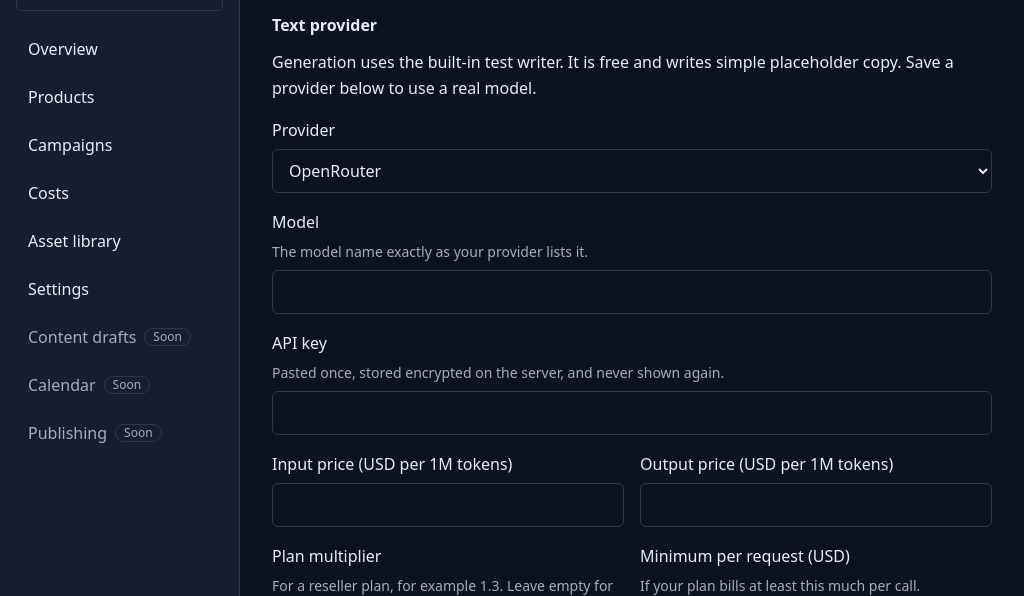
Test: Settings: text provider › shows the address field only for a custom provider and checks it
The image size is (1024, 596).
expect the field labelled "Model" is shown: met, box [272,270,992,314]
expect the field labelled "Address" is not shown: met
Select "Custom (OpenAI-compatible address)" in the dropdown labelled "Provider" at (632, 171), box [272,149,992,193]
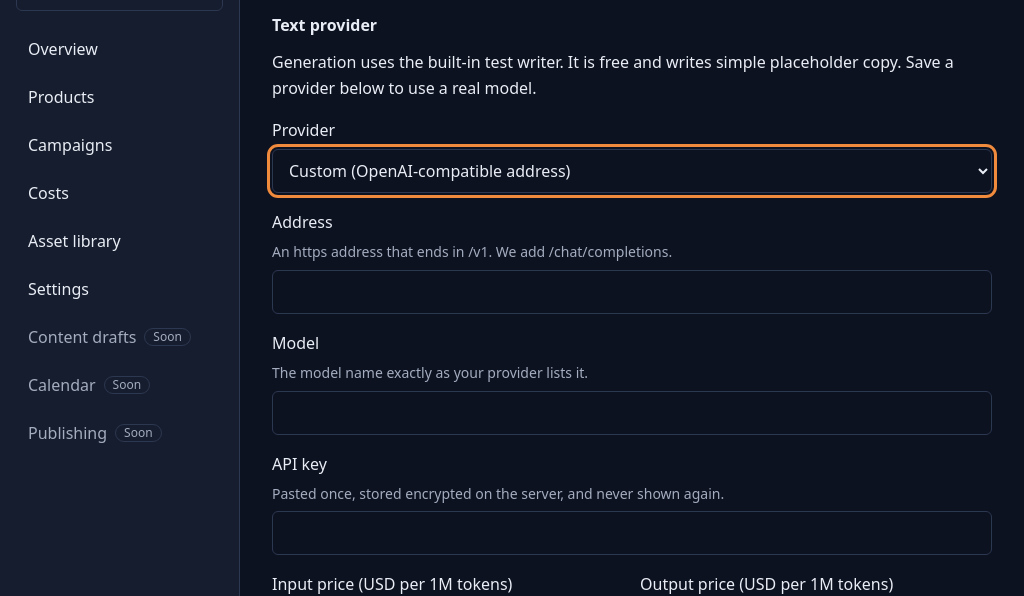
Type "http://192.168.1.5/v1" into the field labelled "Address".
click(632, 292); type("http://192.168.1.5/v1")  # box [272,270,992,314]
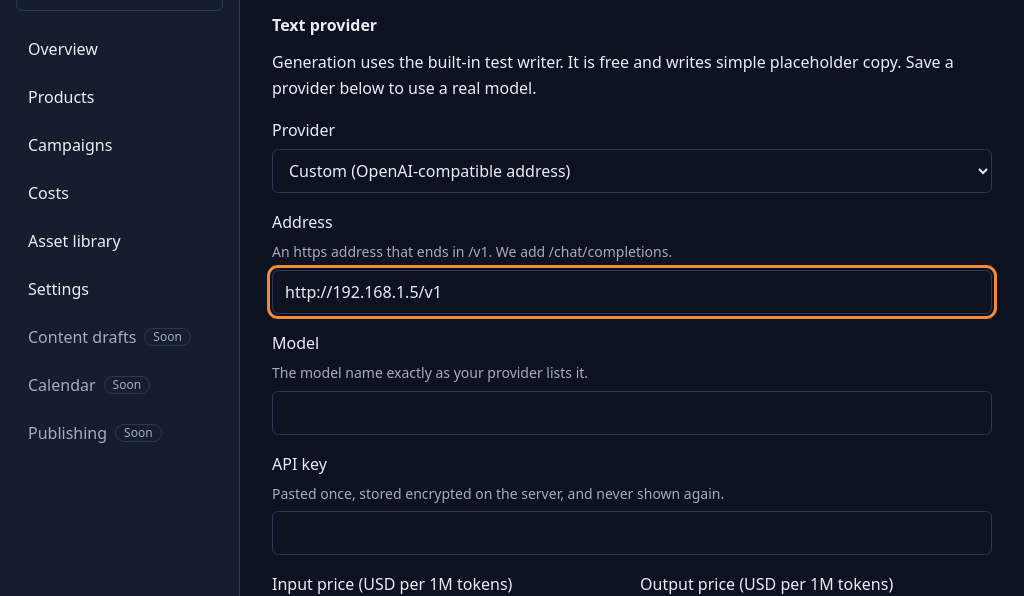
Type "m" into the field labelled "Model".
click(632, 412); type("m")  # box [272,390,992,434]
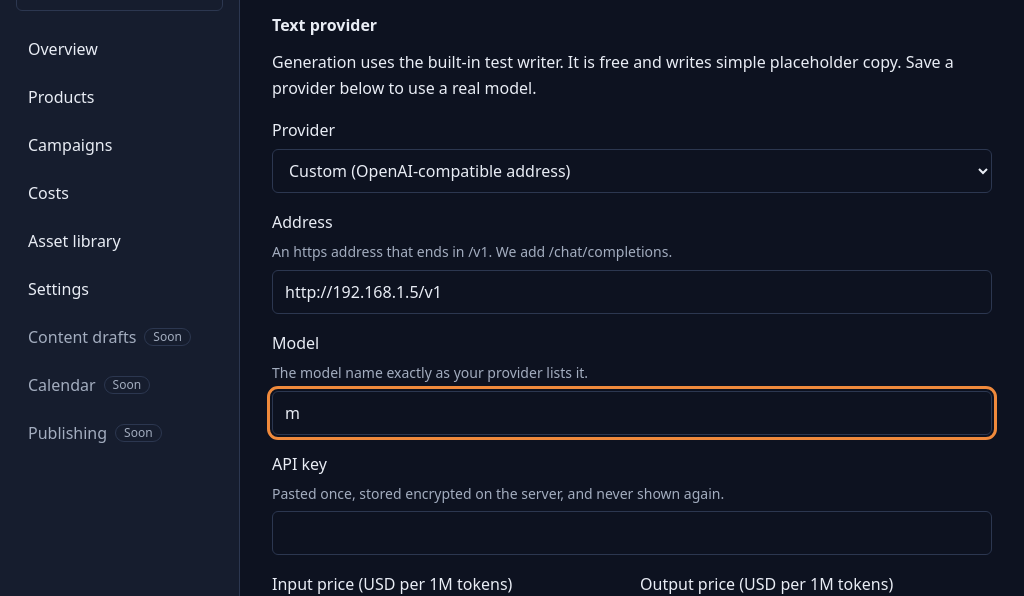
Type "sk-or-v1-0123456789WXYZ" into the password field labelled "API key".
click(632, 533); type("sk-or-v1-0123456789WXYZ")  # box [272,511,992,555]
(page scrolled)
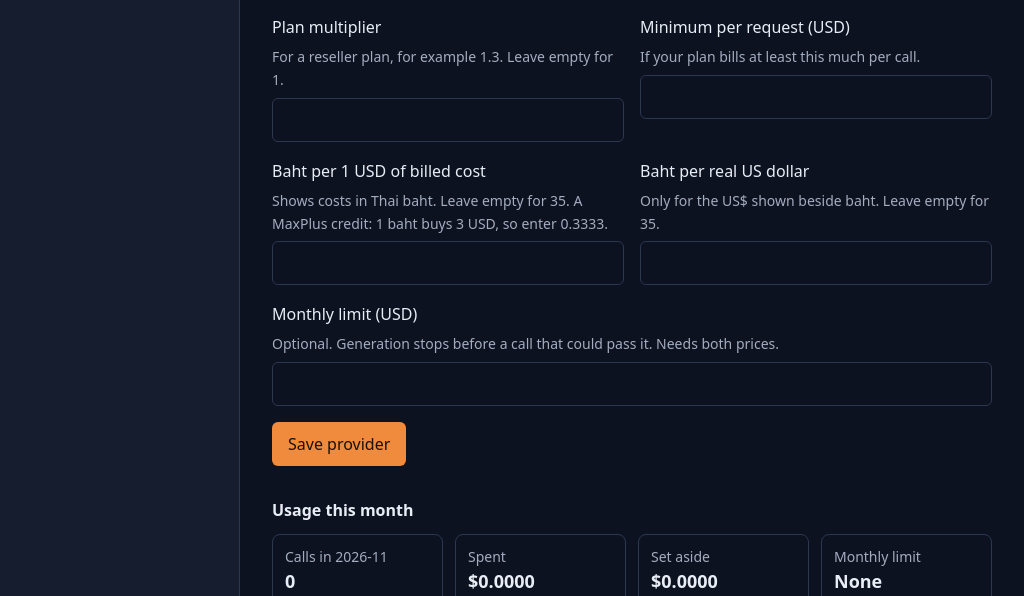
Click the button "Save provider".
click(339, 444)  # box [272,422,406,466]
(page scrolled)
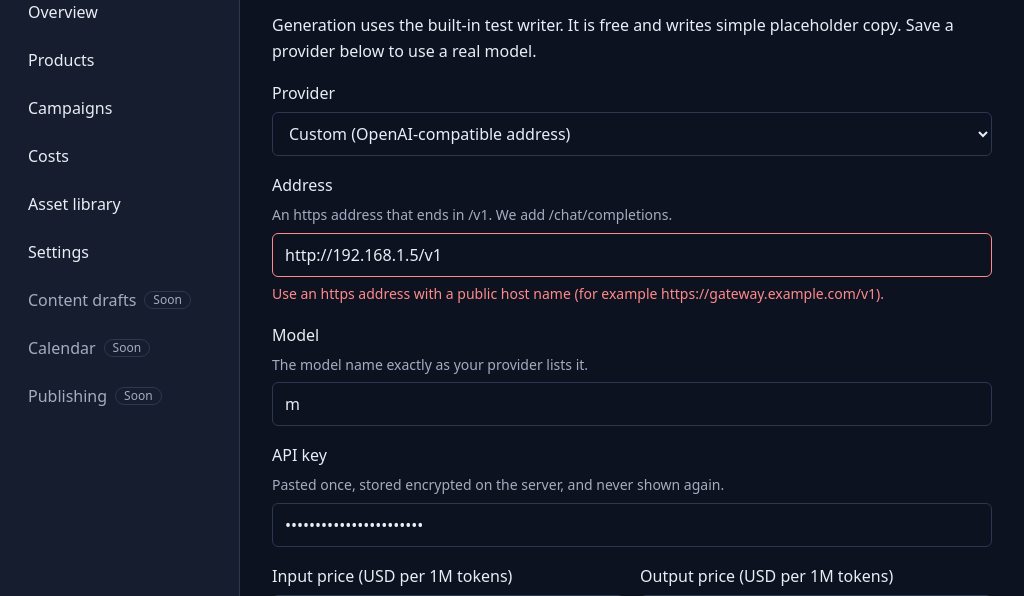
expect the text "Use an https address with a public host name" is shown: met, box [272,284,884,303]
